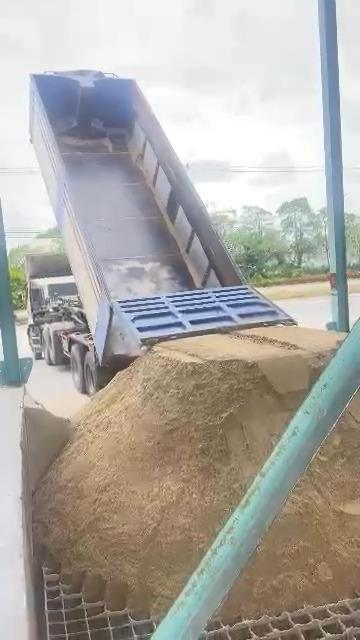sand: (35, 328, 339, 613), (223, 398, 360, 617), (22, 395, 72, 496)
